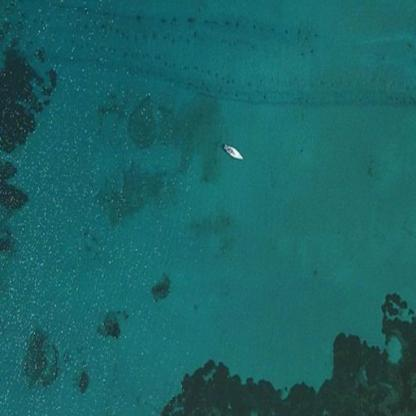ship: (215, 134, 248, 163)
